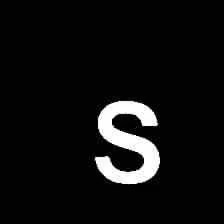LTR_S: (85, 91, 163, 187)
